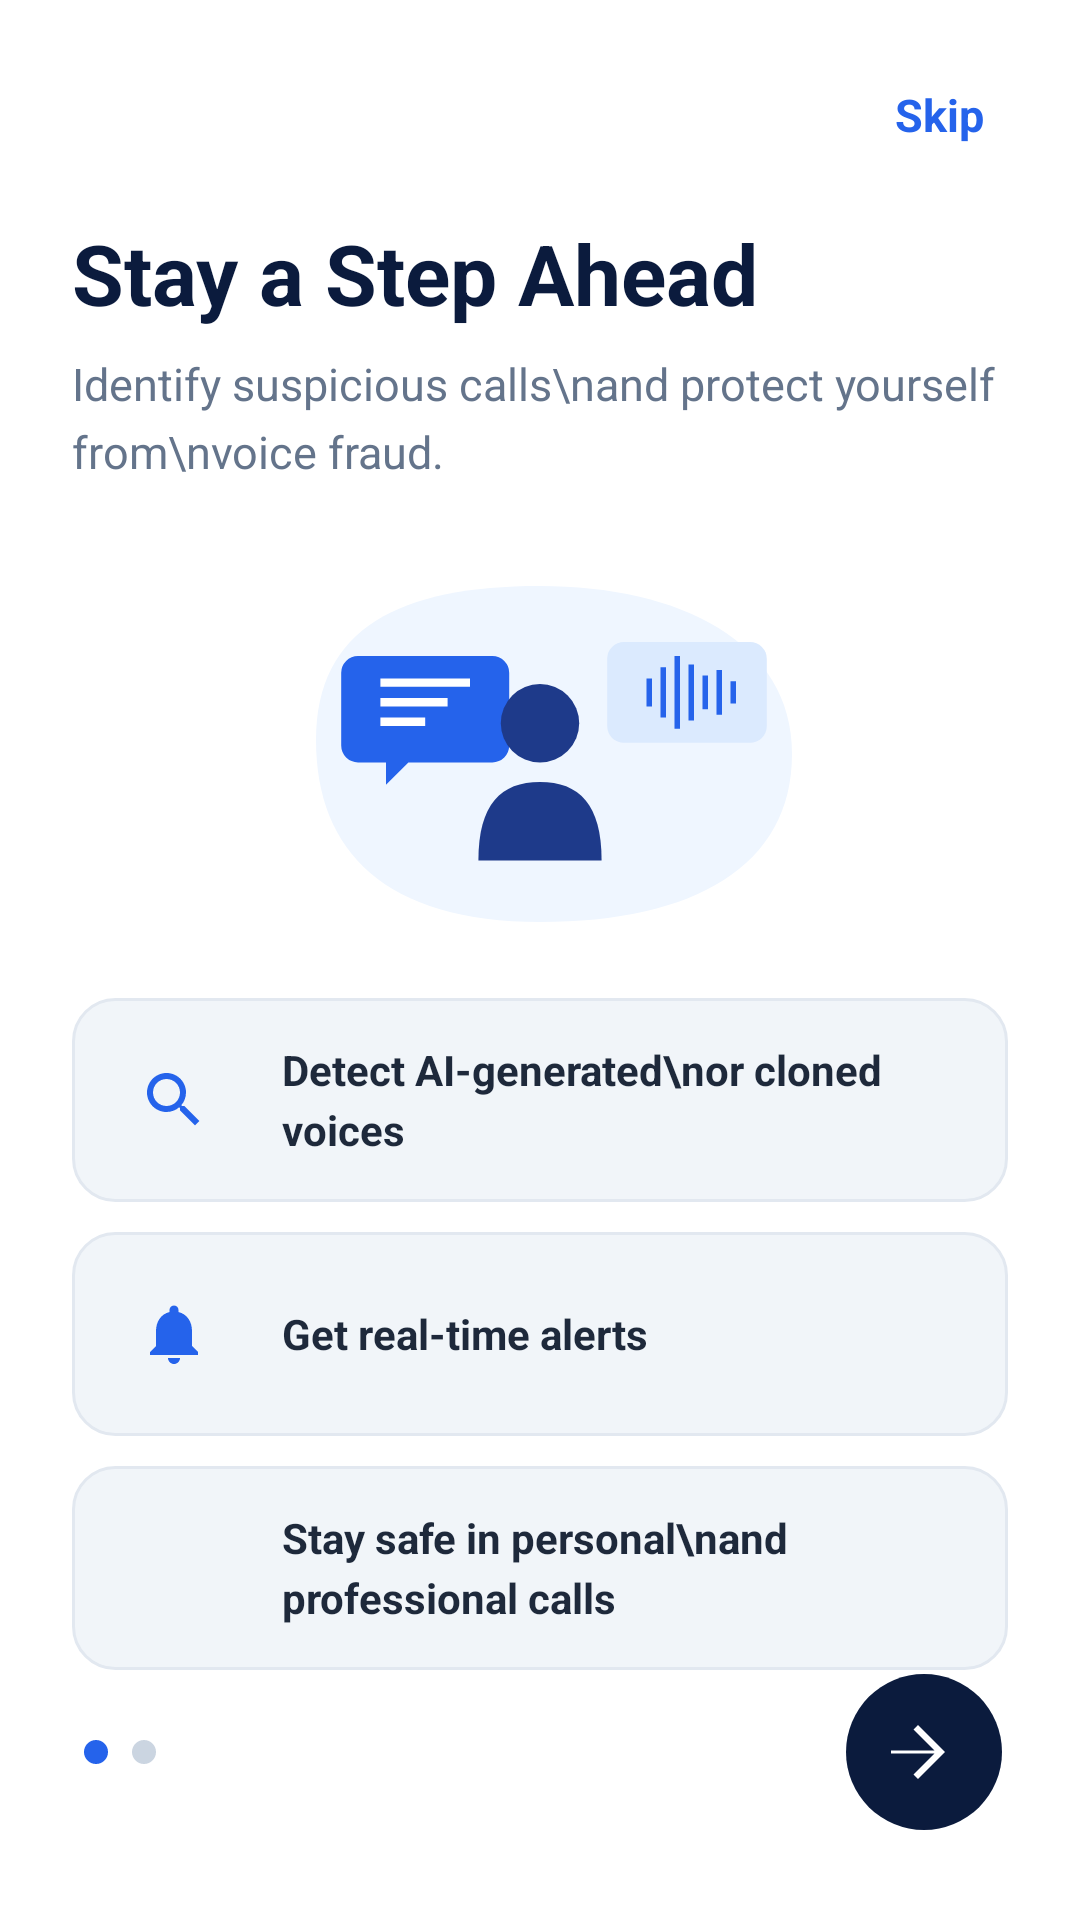

Icon click points for this 1080px x 1920px phone screenshot, format [x,y]:
Alert Bell Icon: [174,1334]
Next: [924,1752]
Search Icon: [173,1099]
